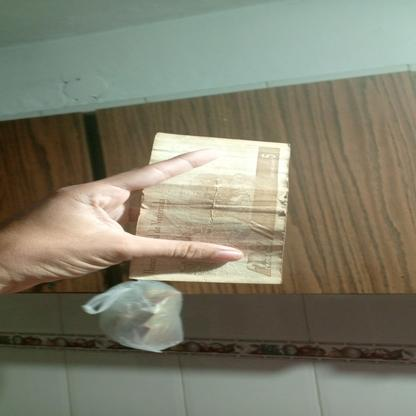five-back-vef: (129, 132, 290, 284)
